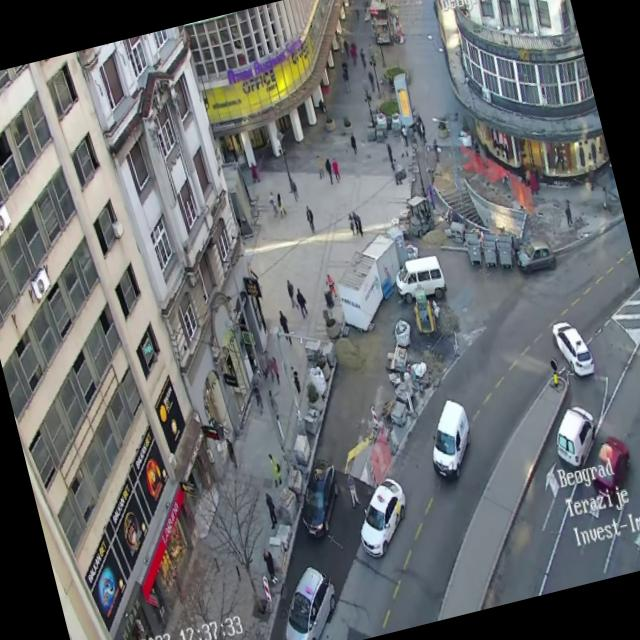car: (269, 561, 347, 640), (348, 474, 418, 560), (418, 394, 481, 482), (288, 456, 349, 540), (547, 401, 604, 473), (582, 432, 638, 501), (549, 315, 597, 381), (392, 254, 448, 310), (512, 235, 558, 276)
